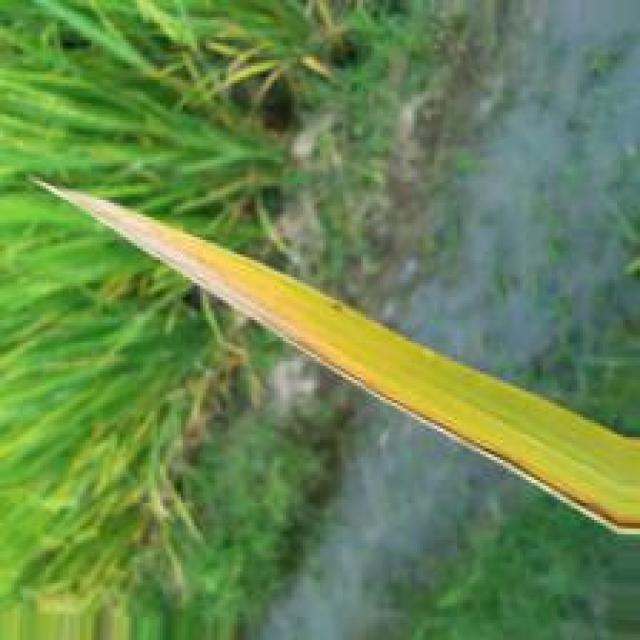Bacterial_Leaf_Blight: (67, 190, 640, 535)
